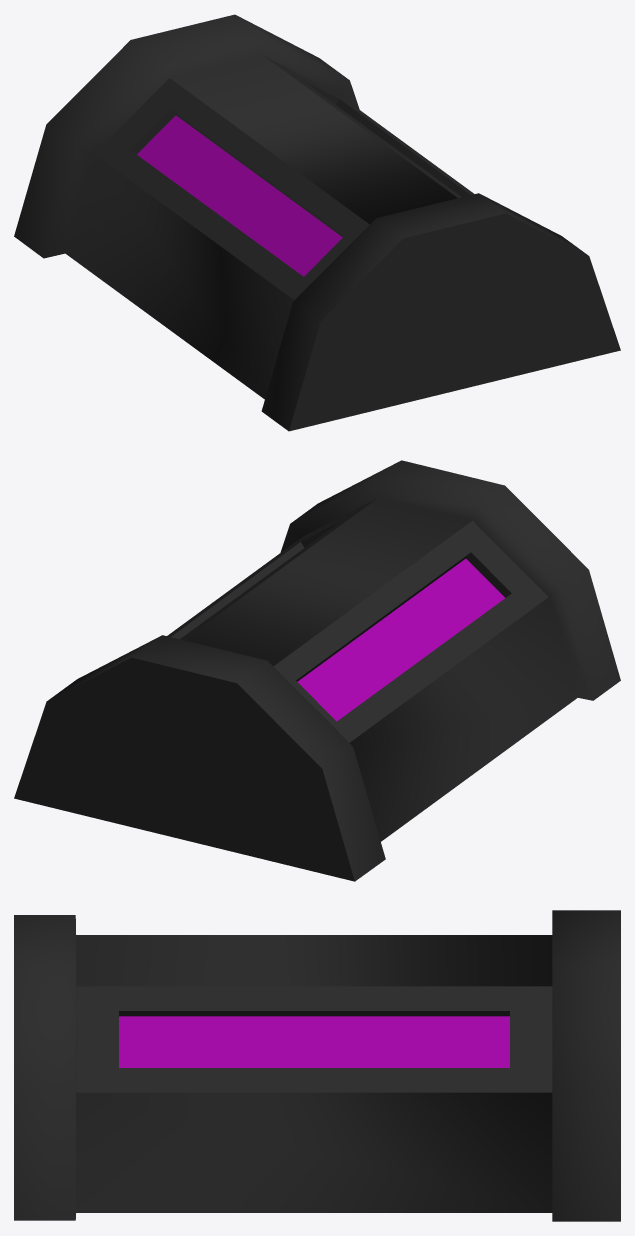
Rendered from Wire_End_Brace.FBX.
3 renders of one model, top to bottom at view 1: azimuth 30°, elevation 25°; view 2: azimuth 150°, elevation 25°; view 3: azimuth 270°, elevation 25°, orthographic. The views are drawn at different scales.
Parts seen in each view (by area): view 1: End_Braces; view 2: End_Braces; view 3: End_Braces.
Part boxes in pixels (left/top/right/bottom): End_Braces: left=14, top=14, right=620, bottom=431; End_Braces: left=14, top=460, right=620, bottom=881; End_Braces: left=14, top=910, right=620, bottom=1221.
Bounding box in the file's own units: 40.98 × 19.46 × 56.51.
